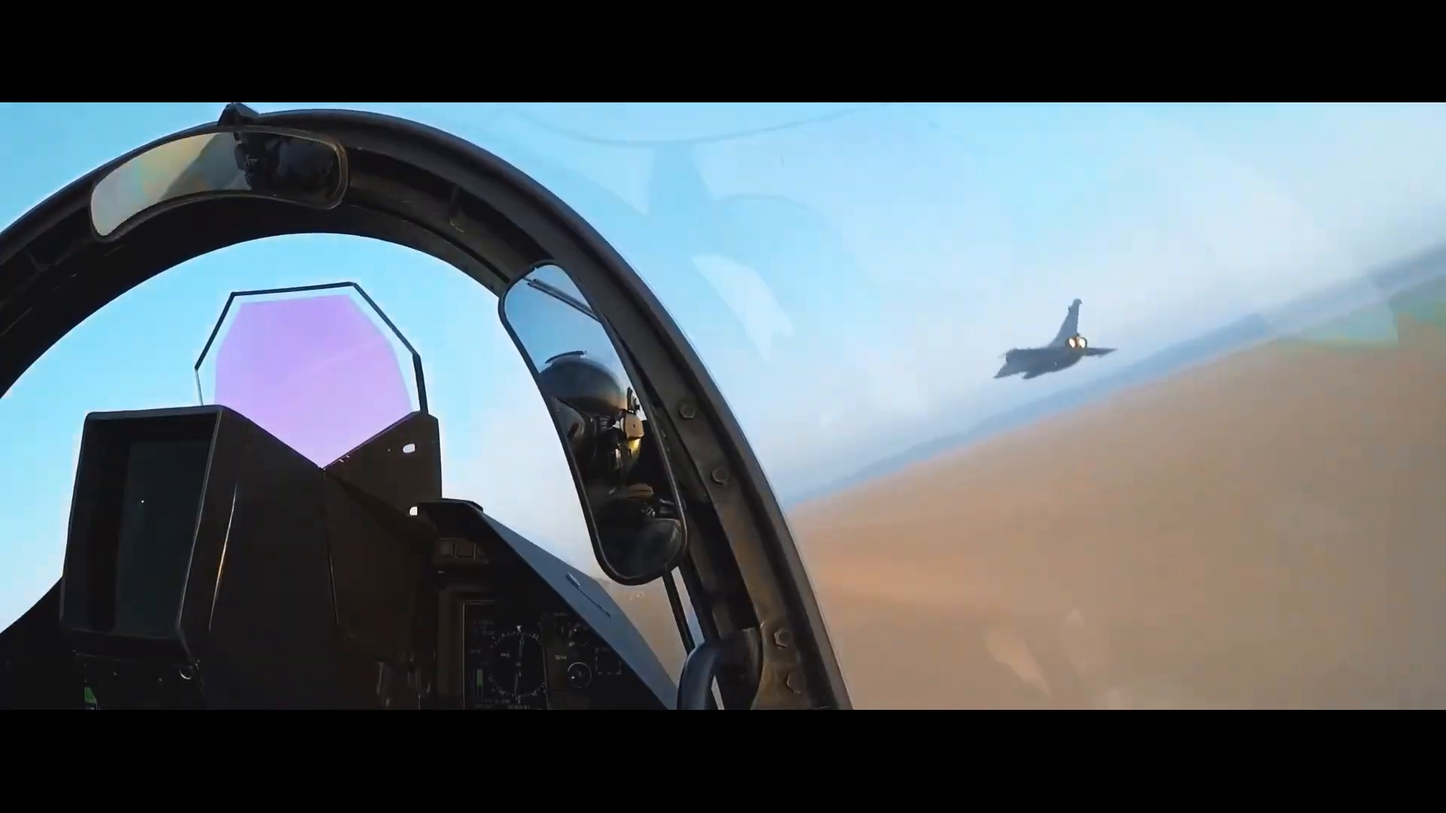Rafale: (985, 283, 1118, 386)
